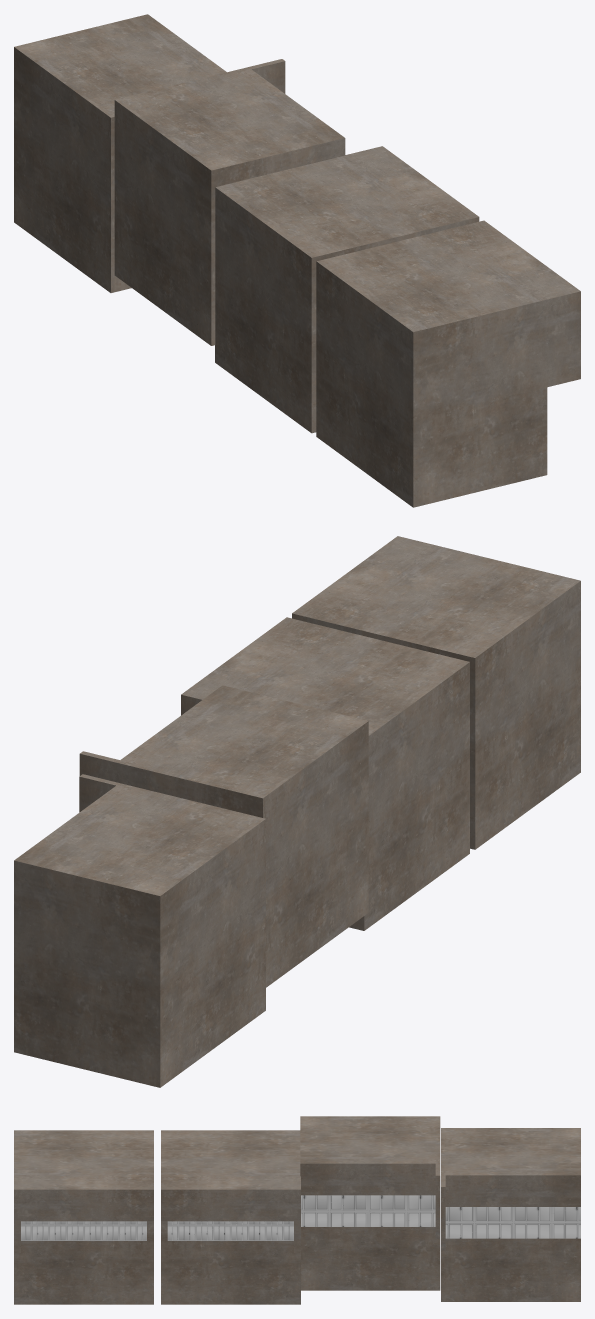
The model's file is wfcset06.glb.
3 renders of one model, top to bottom at view 1: azimuth 30°, elevation 25°; view 2: azimuth 150°, elevation 25°; view 3: azimuth 270°, elevation 25°, orthographic. The views are drawn at different scales.
Parts seen in each view (by area): view 1: basicbldg01, basicbldg02, basicbldg03, basicbldg04; view 2: basicbldg04, basicbldg01, basicbldg03, basicbldg02; view 3: basicbldg03, basicbldg01, basicbldg02, basicbldg04.
Boxes of the visible parts, left/top/right/bottom form: basicbldg01: left=316, top=220, right=580, bottom=507; basicbldg02: left=215, top=146, right=479, bottom=433; basicbldg03: left=114, top=59, right=345, bottom=345; basicbldg04: left=14, top=14, right=226, bottom=292; basicbldg04: left=14, top=774, right=265, bottom=1087; basicbldg01: left=292, top=536, right=580, bottom=849; basicbldg03: left=79, top=685, right=368, bottom=987; basicbldg02: left=181, top=617, right=469, bottom=930; basicbldg03: left=300, top=1116, right=440, bottom=1290; basicbldg01: left=14, top=1130, right=153, bottom=1304; basicbldg02: left=161, top=1130, right=300, bottom=1304; basicbldg04: left=441, top=1128, right=580, bottom=1301.
Size of the model in its own units: 1.04 by 1.1 by 4.05.
Materials: 2 (2 with a texture image).
